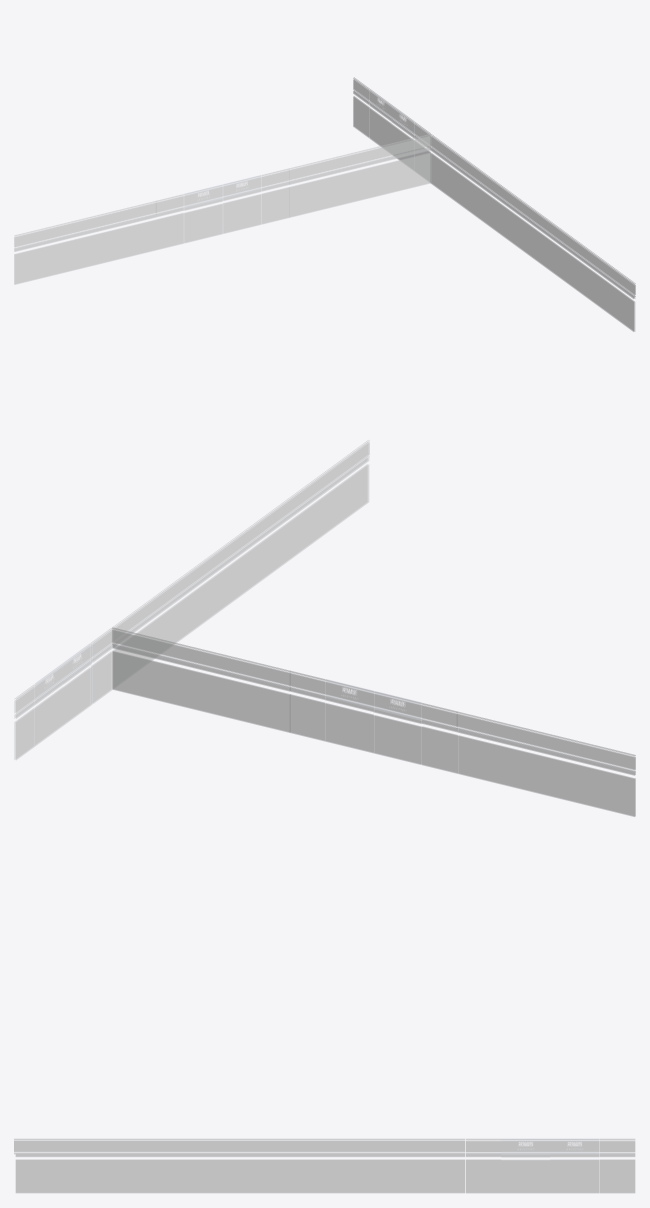
File: PraOperasi dan ICU PINTU KACA.fbx
3 renders of one model, top to bottom at view 1: azimuth 30°, elevation 25°; view 2: azimuth 150°, elevation 25°; view 3: azimuth 270°, elevation 25°, orthographic. The views are drawn at different scales.
Parts seen in each view (by area): view 1: Cube.334, Cube.323, Cube.325, Cube.313, Cube.320, Cube.321, Cube.294, Cube.302, Cube.301; view 2: Cube.334, Cube.325, Cube.323, Cube.313, Cube.320, Cube.321, Cube.294, Cube.302, Cube.301; view 3: Cube.334, Cube.294, Cube.301, Cube.302.
Part boxes in pixels (x1=…): Cube.334: x1=430, y1=134, x2=635, y2=331; Cube.323: x1=14, y1=201, x2=156, y2=284; Cube.325: x1=289, y1=134, x2=431, y2=217; Cube.313: x1=156, y1=168, x2=289, y2=249; Cube.320: x1=184, y1=185, x2=222, y2=243; Cube.321: x1=223, y1=175, x2=261, y2=233; Cube.294: x1=353, y1=77, x2=430, y2=181; Cube.302: x1=369, y1=89, x2=392, y2=152; Cube.301: x1=391, y1=106, x2=414, y2=169; Cube.334: x1=112, y1=440, x2=369, y2=688; Cube.325: x1=112, y1=627, x2=290, y2=732; Cube.323: x1=457, y1=712, x2=635, y2=816; Cube.313: x1=290, y1=671, x2=457, y2=773; Cube.320: x1=373, y1=691, x2=422, y2=764; Cube.321: x1=325, y1=679, x2=373, y2=752; Cube.294: x1=14, y1=628, x2=112, y2=759; Cube.302: x1=35, y1=664, x2=63, y2=745; Cube.301: x1=63, y1=643, x2=91, y2=724; Cube.334: x1=14, y1=1139, x2=464, y2=1193; Cube.294: x1=465, y1=1139, x2=635, y2=1193; Cube.301: x1=501, y1=1139, x2=550, y2=1193; Cube.302: x1=550, y1=1139, x2=599, y2=1193.
Size of the model in its own units: 3055 by 784 by 3582.
